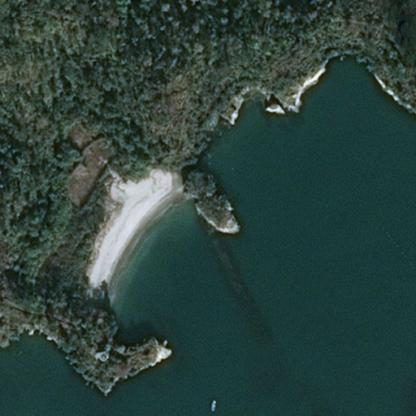ship: (202, 395, 222, 412)
